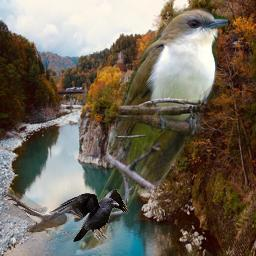Crow: (48, 189, 129, 242)
Cuckoo: (73, 5, 228, 255), (2, 191, 83, 243)
